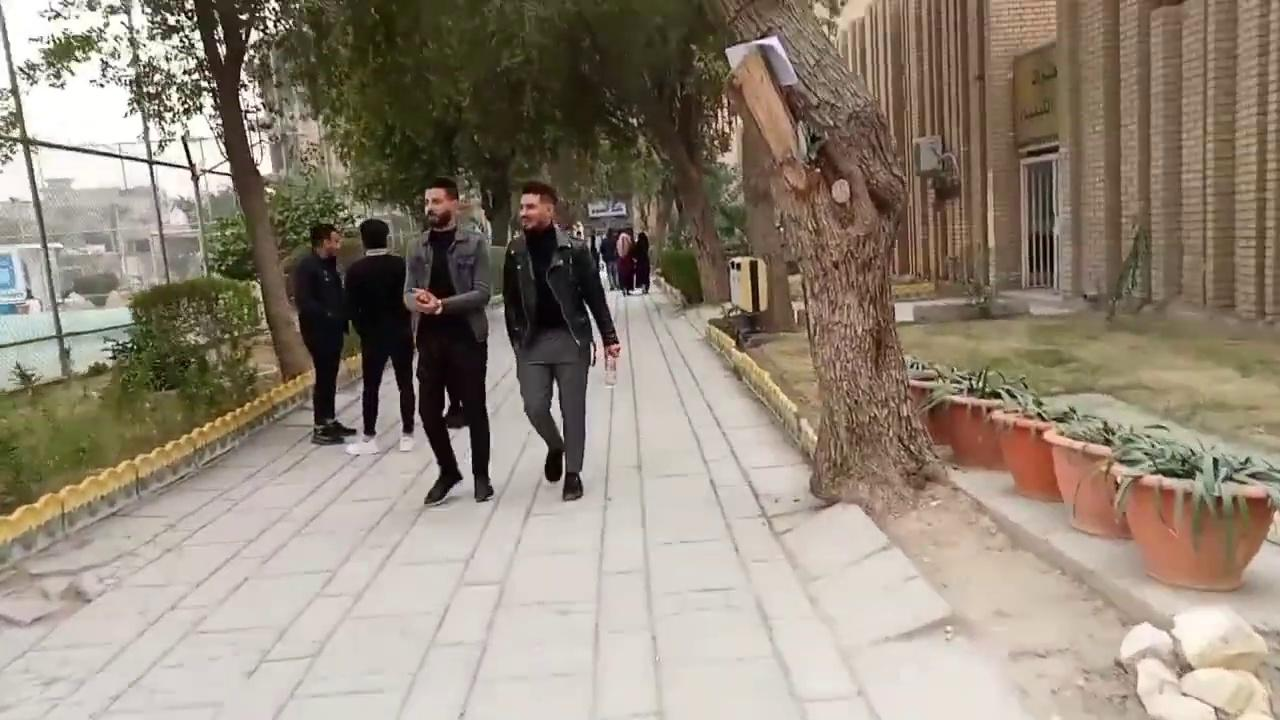fountain: (602, 352, 617, 386)
person: (501, 180, 621, 501), (402, 176, 494, 505), (342, 218, 416, 454), (291, 223, 356, 445)
tree: (0, 7, 744, 535), (265, 0, 739, 303), (699, 0, 951, 507), (0, 0, 306, 383), (561, 0, 737, 305), (192, 0, 318, 381), (1097, 423, 1277, 591), (1042, 409, 1134, 538), (989, 375, 1066, 501)
